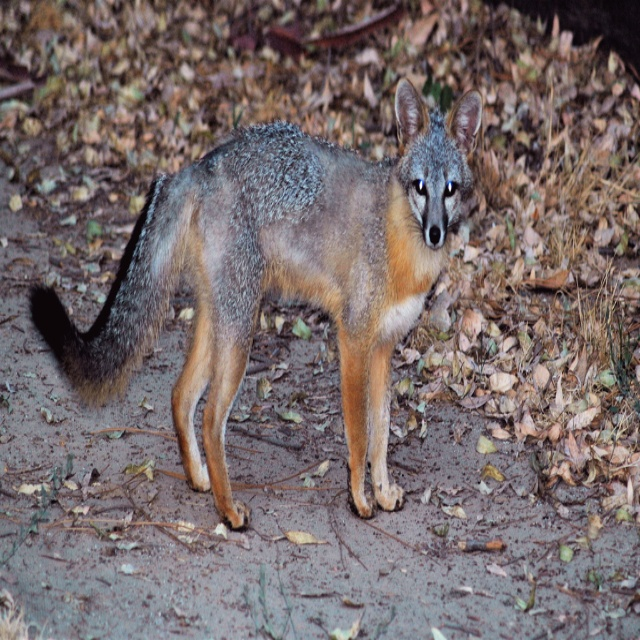Fox: (24, 76, 483, 532)
